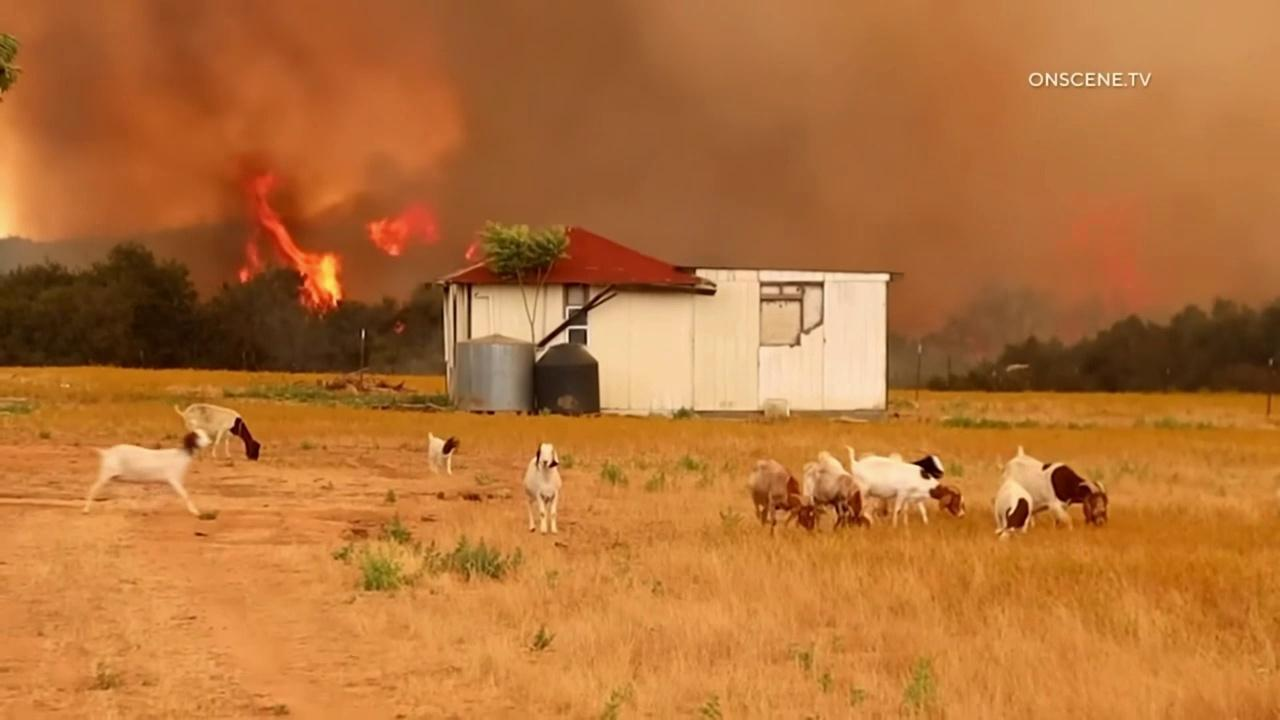fire: (239, 172, 345, 321), (365, 200, 442, 258), (392, 319, 407, 334), (463, 245, 476, 261)
smoke: (0, 0, 1280, 390)
